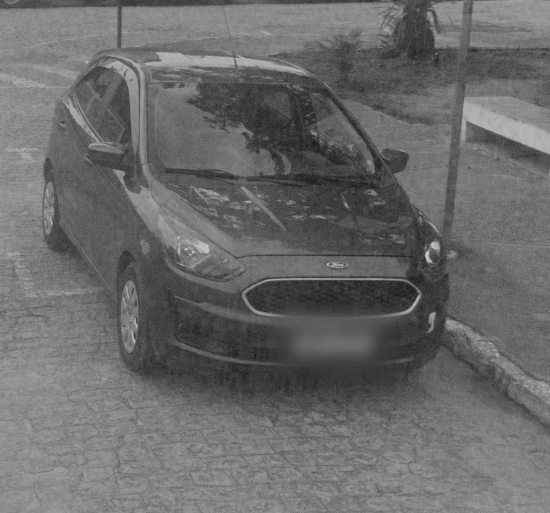car: (42, 6, 452, 383)
